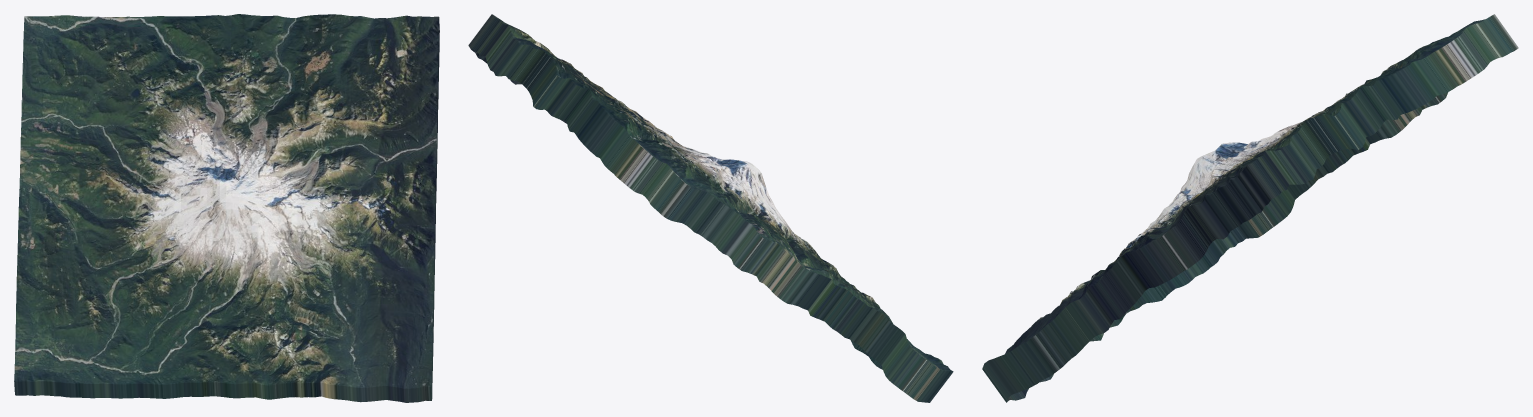
3 views of the same model, side by side, from view 1: azimuth 30°, elevation 25°; view 2: azimuth 150°, elevation 25°; view 3: azimuth 270°, elevation 25° (orthographic). The views are drawn at different scales.
Bounding box in the file's own units: 40676 × 24323 × 38591.
Materials: 1 (1 with a texture image).
